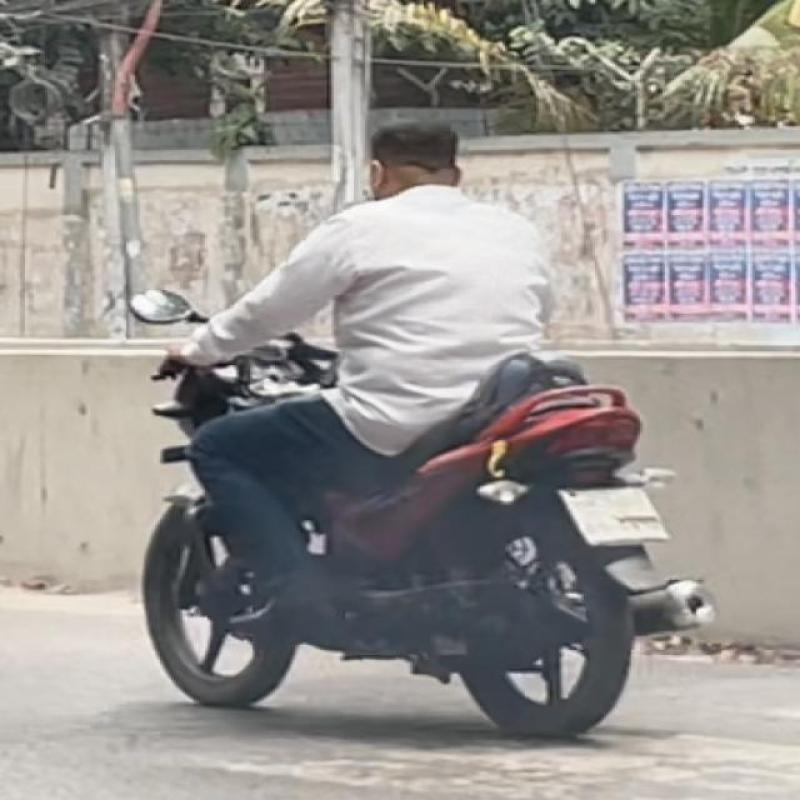nohelmet: (321, 105, 505, 210)
